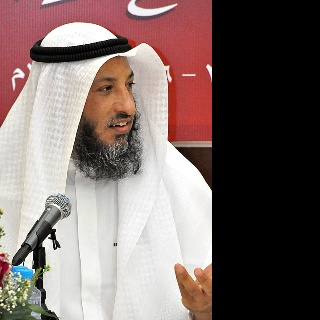without_mask: (68, 55, 151, 186)
